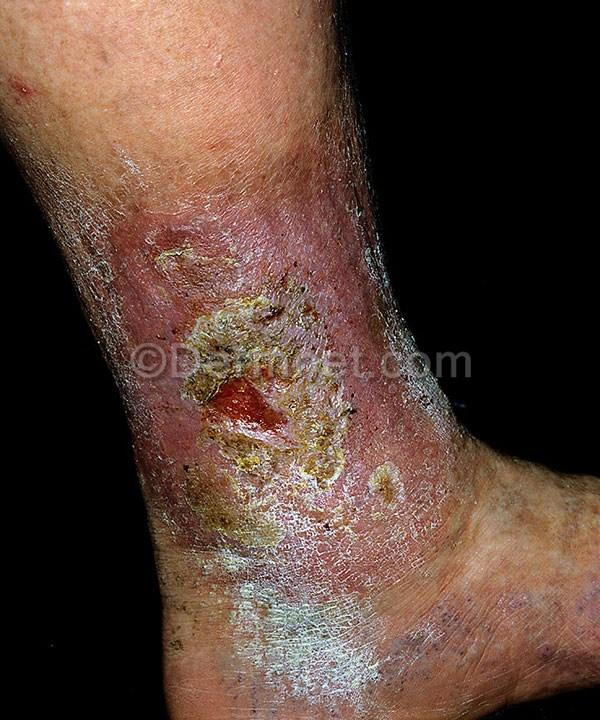Eczema: (271, 532, 422, 656), (126, 380, 241, 505), (313, 394, 411, 533), (163, 516, 260, 652), (183, 284, 278, 396), (259, 265, 332, 408), (135, 185, 240, 284), (235, 413, 328, 524), (364, 336, 458, 442), (324, 278, 398, 402), (99, 270, 177, 386), (295, 164, 369, 284), (423, 418, 492, 540), (425, 520, 506, 615), (381, 604, 466, 689), (52, 184, 128, 278), (224, 650, 340, 708), (244, 186, 306, 271), (510, 587, 593, 648), (317, 649, 377, 714), (472, 634, 545, 686), (0, 52, 54, 102), (558, 630, 600, 678)
